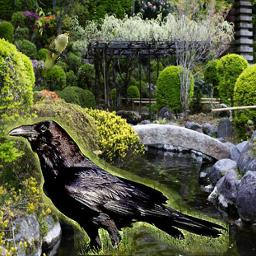Crow: (4, 117, 229, 255)
Cuckoo: (41, 30, 73, 77)
